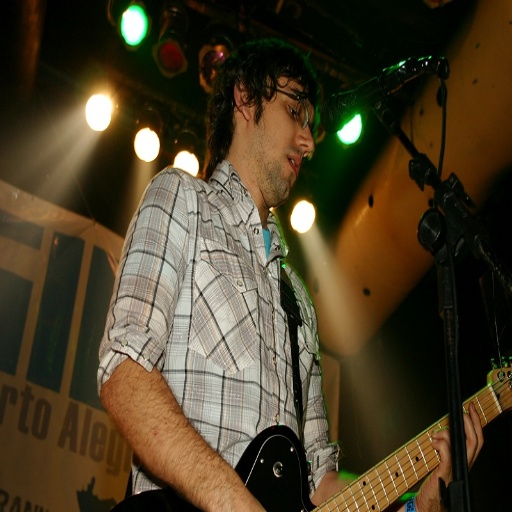hand: (416, 400, 483, 511)
